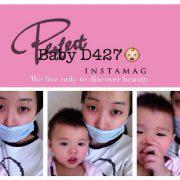NONE: (136, 121, 172, 166), (54, 136, 92, 168)
WRONG: (83, 96, 127, 140), (1, 98, 38, 146)
